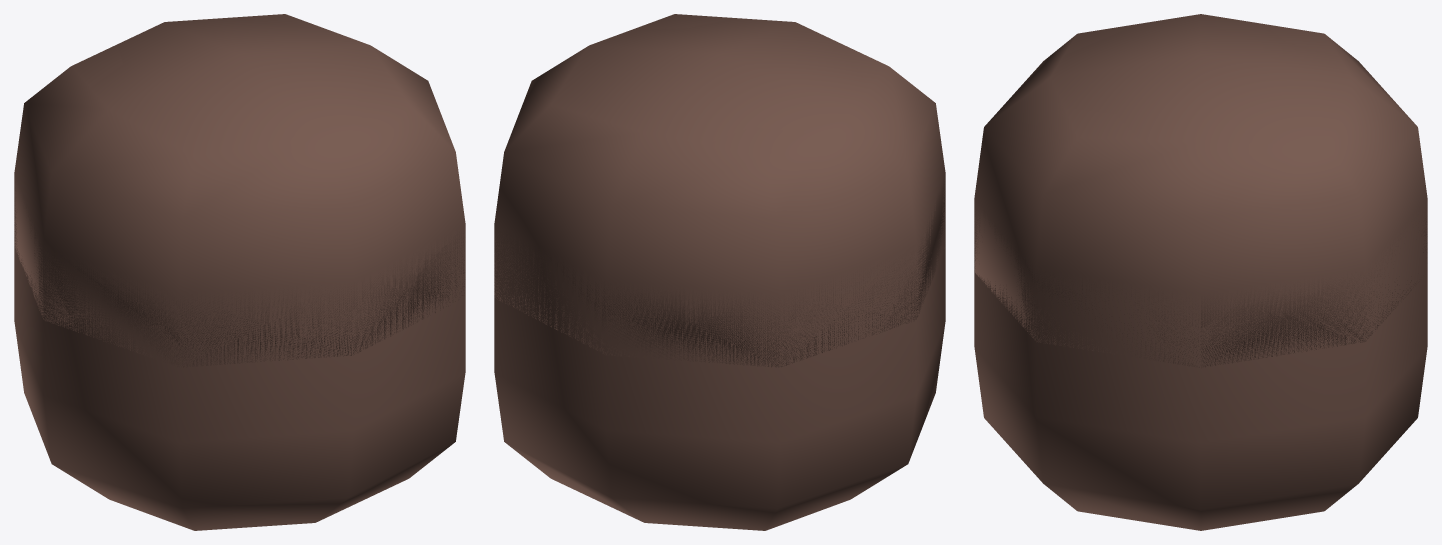
File: Coconut.glb
3 views of the same model, side by side, from view 1: azimuth 30°, elevation 25°; view 2: azimuth 150°, elevation 25°; view 3: azimuth 270°, elevation 25° (orthographic).
Visible parts, largest first — view 1: Cube, Cube.002; view 2: Cube, Cube.002; view 3: Cube, Cube.002.
Boxes of the visible parts, <box> form: Cube: <box>14,14,465,530</box>; Cube.002: <box>14,44,465,367</box>; Cube: <box>494,18,945,530</box>; Cube.002: <box>494,14,945,367</box>; Cube: <box>974,14,1427,530</box>; Cube.002: <box>974,24,1427,367</box>.
Size of the model in its own units: 1.83 by 1.92 by 1.83.
